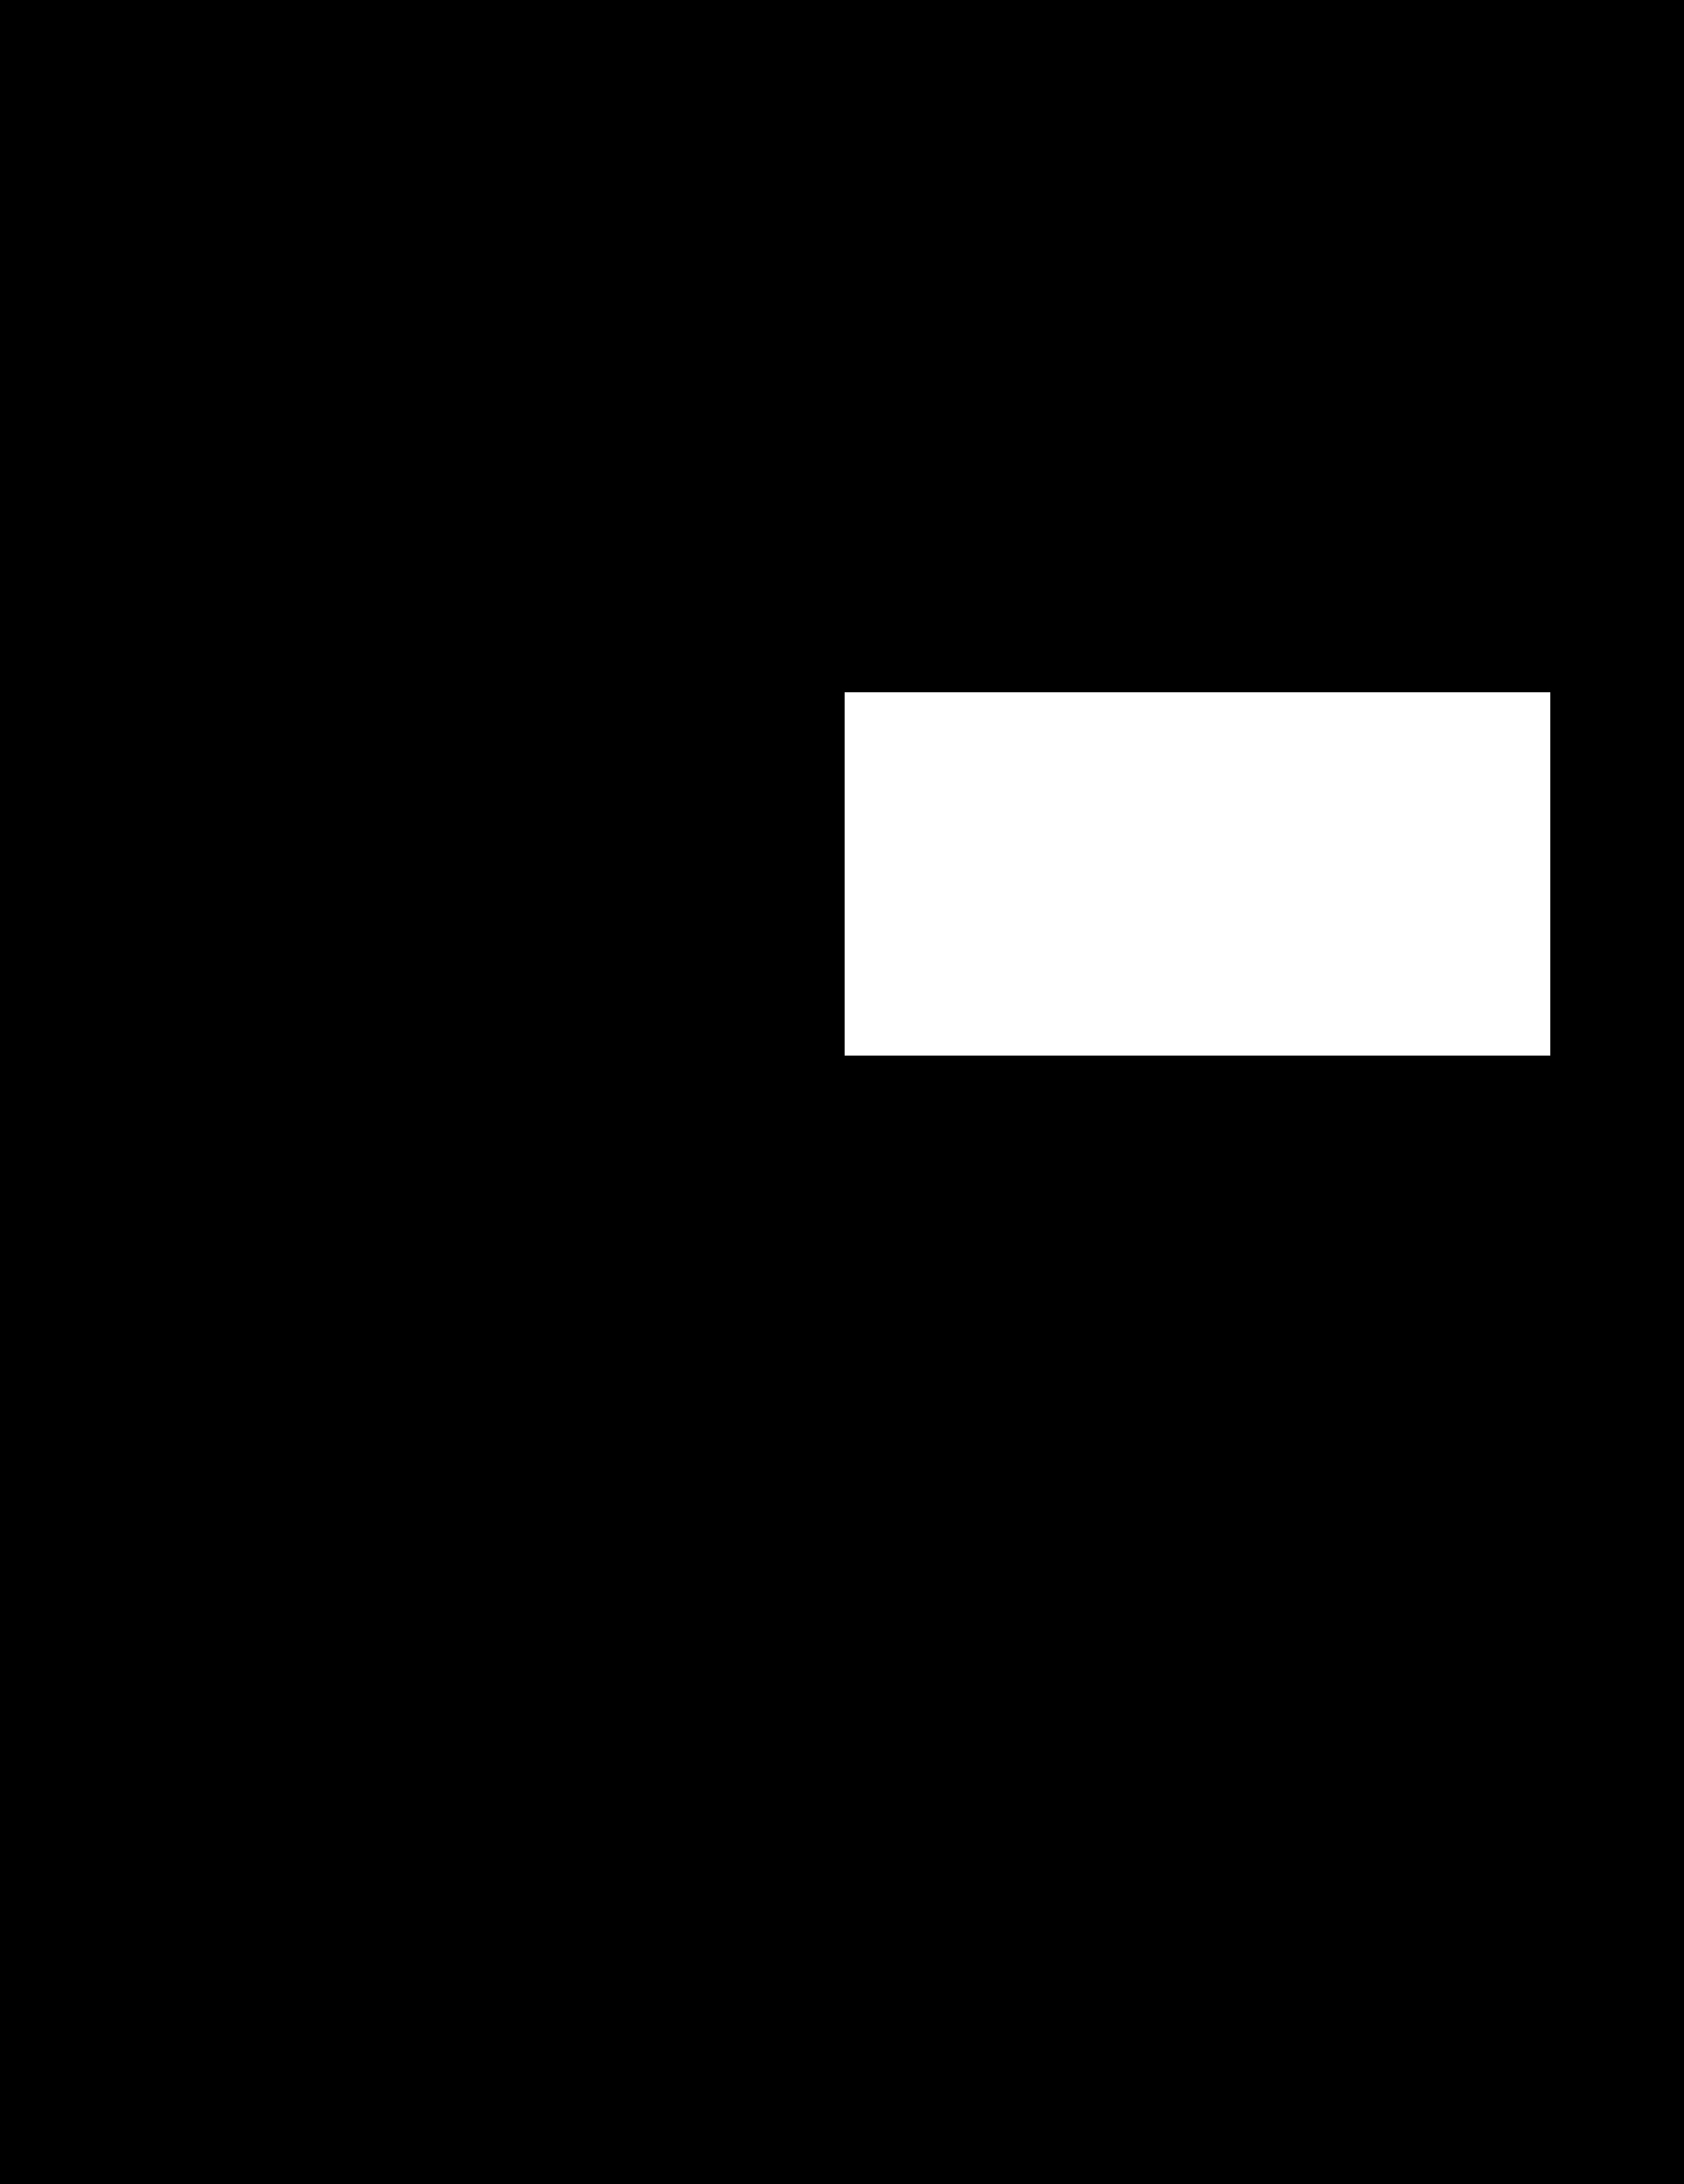table: (844, 691, 1550, 1056)
